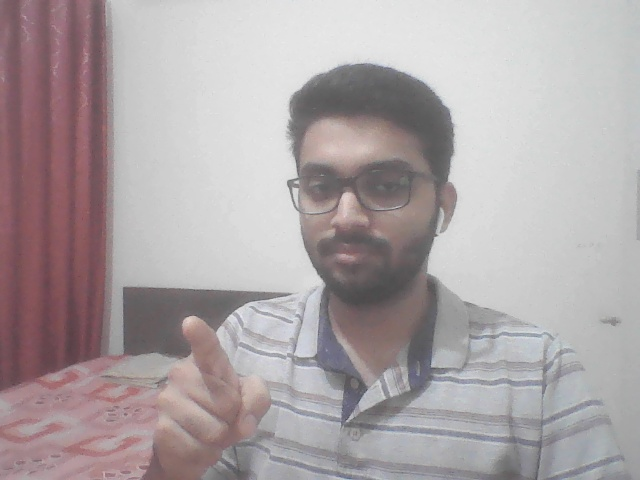you: (116, 292, 293, 479)
